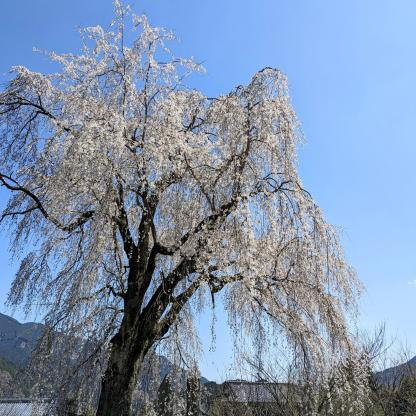ShidareZakura: (0, 0, 374, 416)
